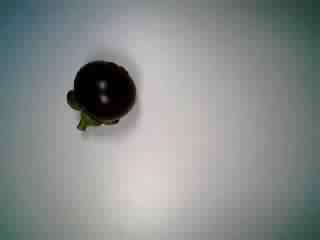mangosteen: (62, 58, 135, 135)
